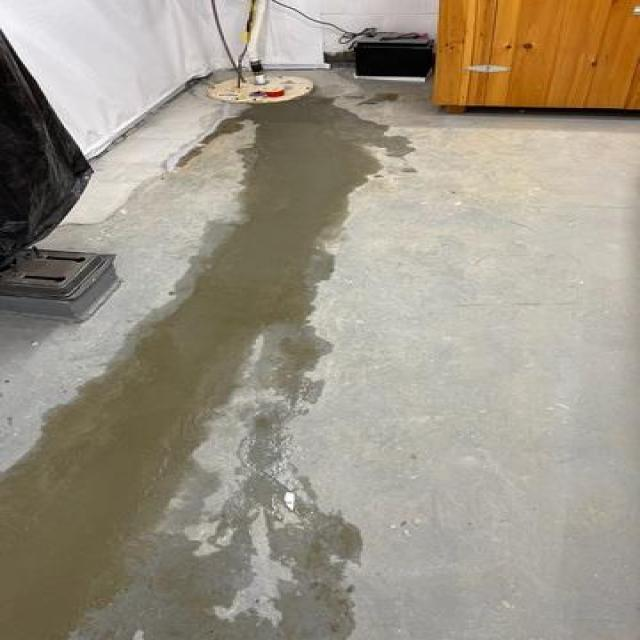water accumulation: (0, 89, 415, 639)
